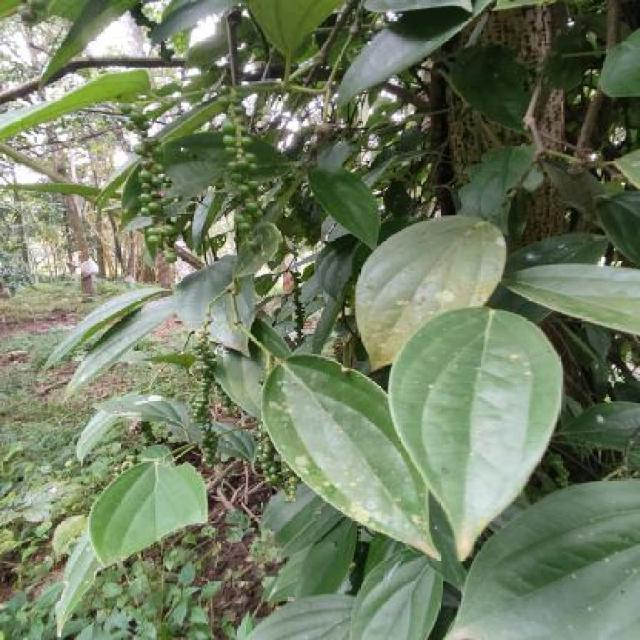UNRIPE: (126, 105, 179, 245), (222, 92, 265, 248), (192, 332, 220, 465), (259, 437, 299, 501), (135, 3, 174, 65), (292, 273, 308, 342), (299, 196, 319, 245), (553, 454, 573, 489), (138, 420, 157, 448)
